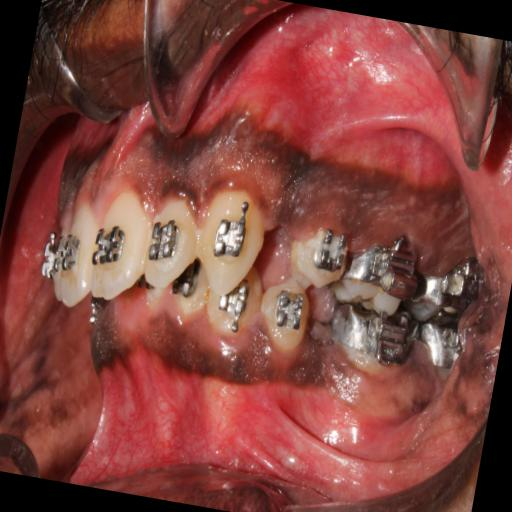correct_brace: (281, 209, 350, 295), (206, 210, 252, 270), (142, 214, 186, 269), (92, 216, 129, 270)
incorrect_brace: (138, 188, 200, 301), (310, 220, 352, 276)
